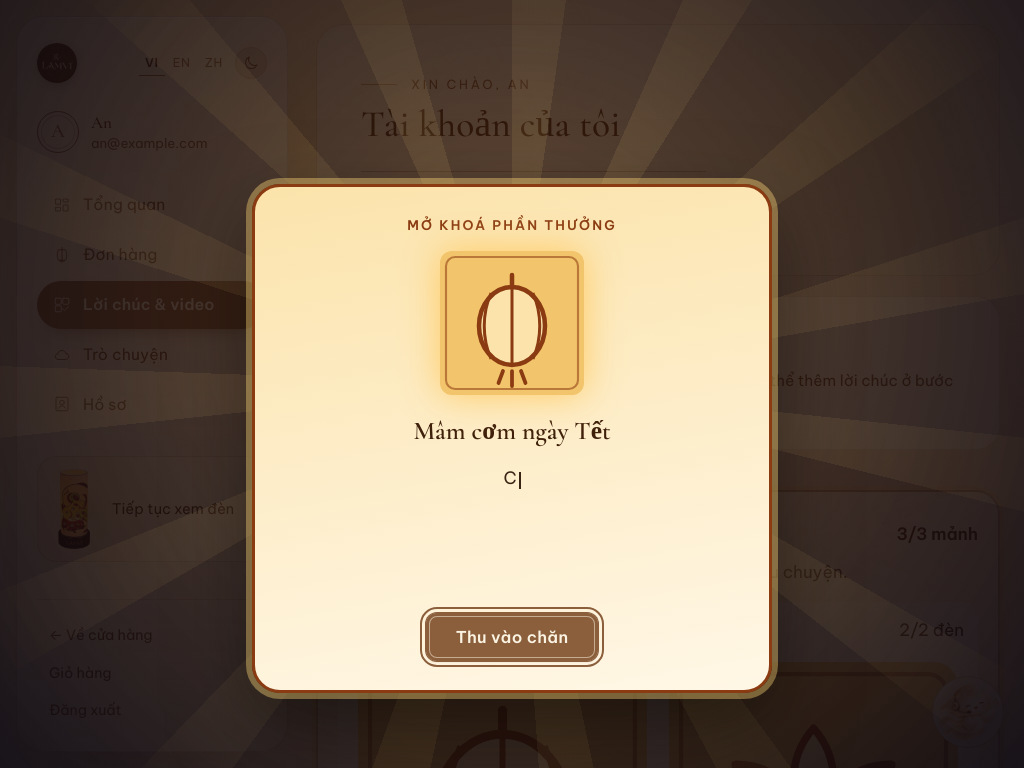
Test: Quilt: phần thưởng › hai bộ cùng mới: lần lượt từng modal, bộ đầu trước
This screenshot has width=1024, height=768.
Expected: the heading "Mâm cơm ngày Tết" is shown, [413, 410, 611, 452]
Click the button. click: click(512, 638)
box: [425, 612, 599, 662]
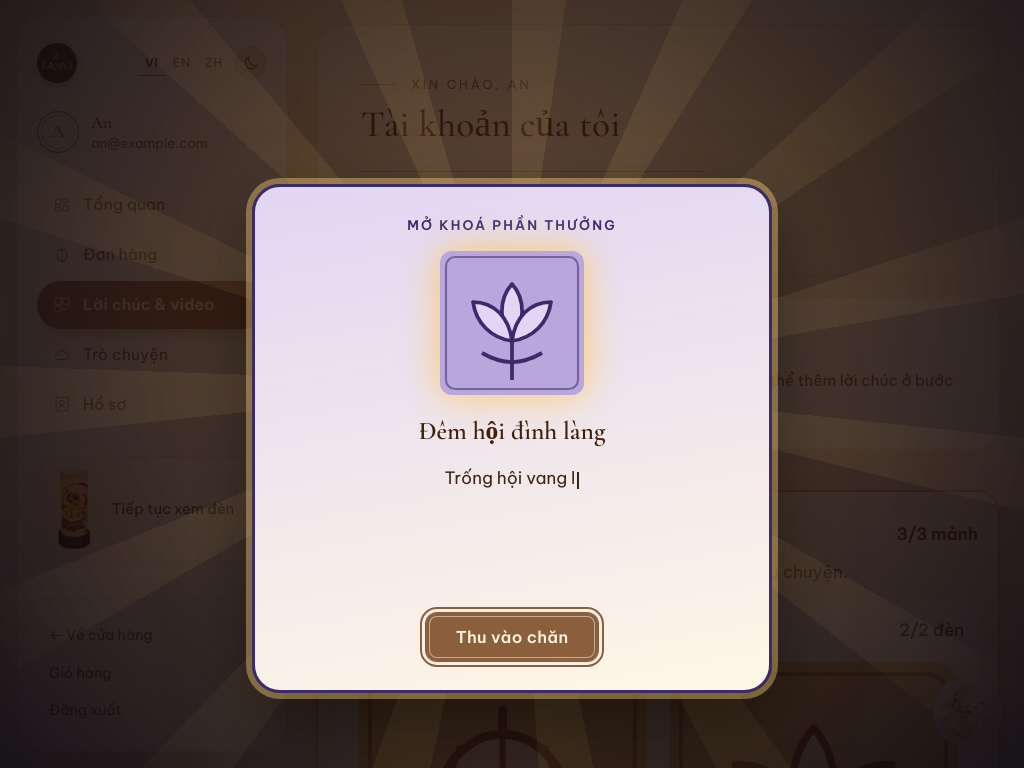
Now the dialog has attribute aria-label="Đêm hội đình làng"
